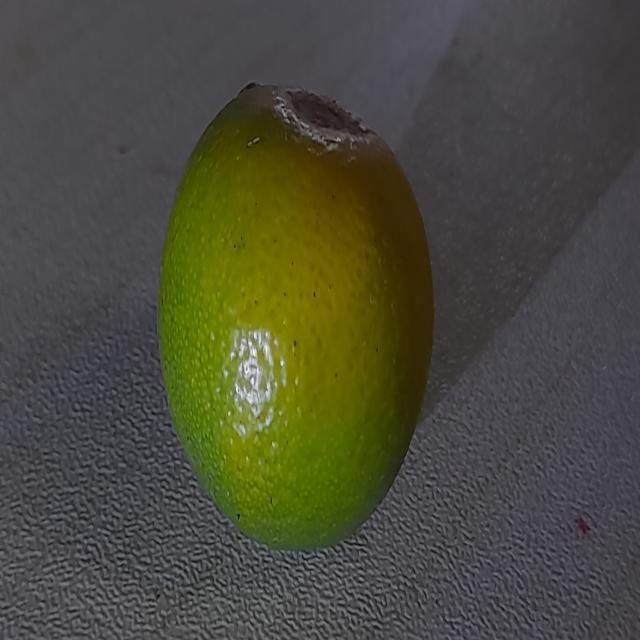greening: (152, 78, 435, 562)
